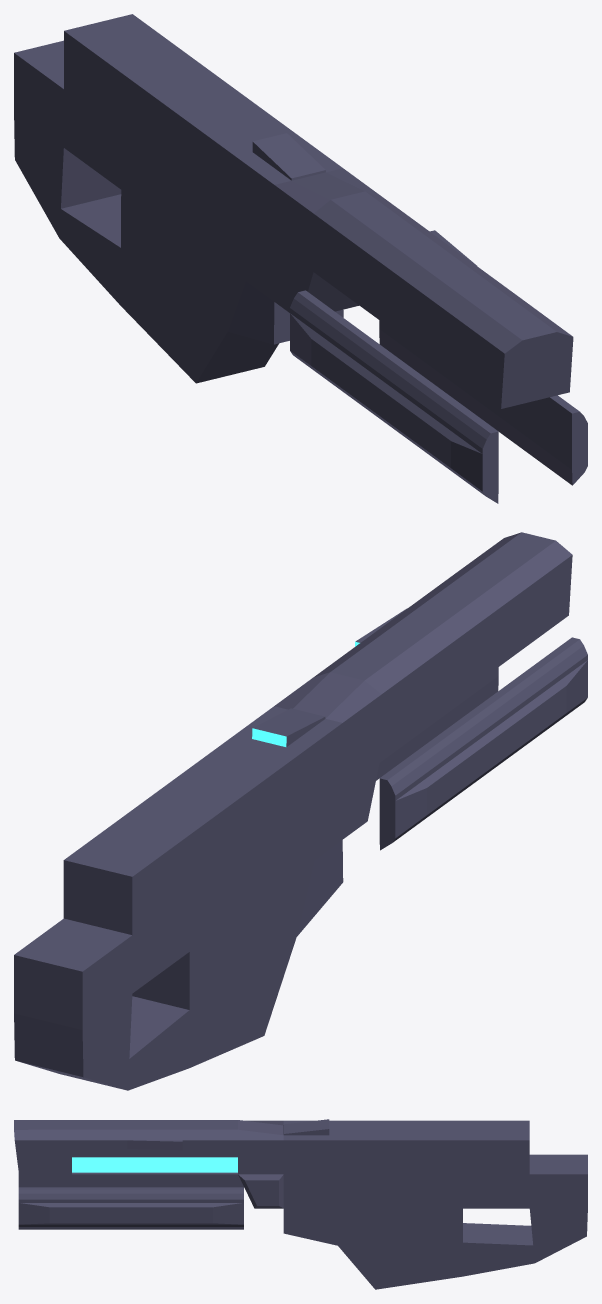
Rendered from Wep3prototype.fbx.
3 views of the same model, one above another, from view 1: azimuth 30°, elevation 25°; view 2: azimuth 150°, elevation 25°; view 3: azimuth 270°, elevation 25° (orthographic). The views are drawn at different scales.
Visible parts, largest first — view 1: Cube, Cube.002, Cube.001; view 2: Cube, Cube.002, Cube.001; view 3: Cube, Cube.001, Cube.002.
Boxes of the visible parts, x1,y1,x2,y2 form: Cube: (14, 14, 573, 408); Cube.002: (290, 290, 498, 503); Cube.001: (379, 320, 587, 485); Cube: (14, 532, 572, 1090); Cube.002: (379, 637, 587, 850); Cube.001: (376, 667, 498, 780); Cube: (14, 1119, 587, 1289); Cube.001: (18, 1187, 243, 1229); Cube.002: (18, 1173, 243, 1187).
Bounding box in the file's own units: 117 × 258 × 861.
